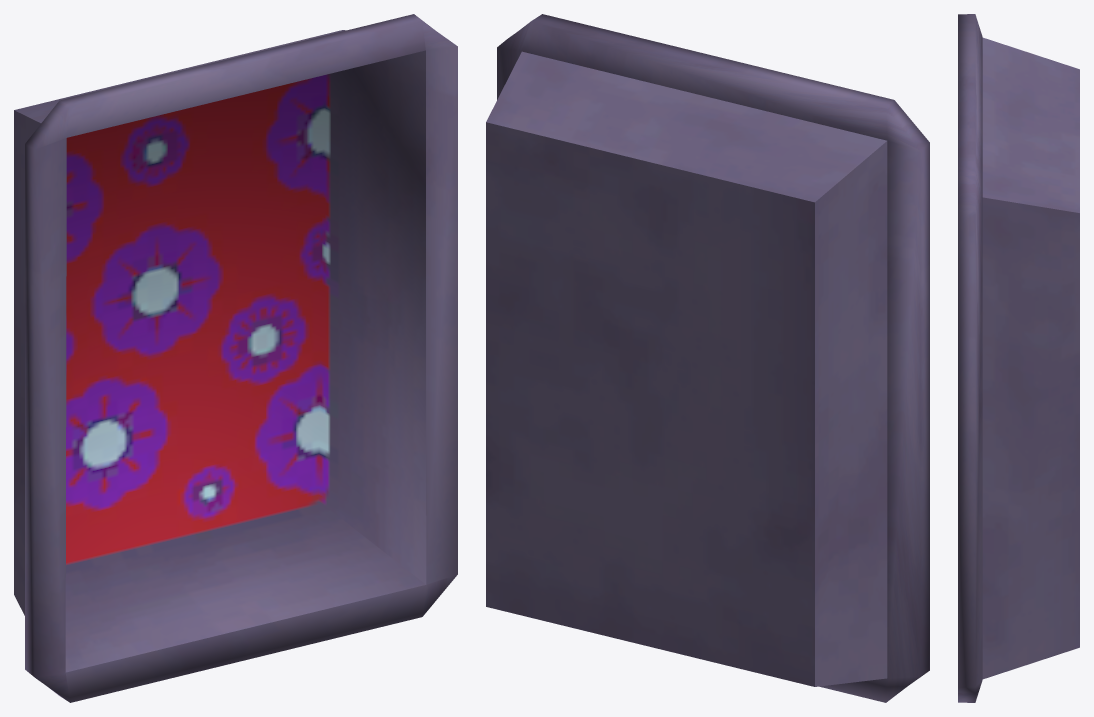
Rendered from nt_2020_storage_bin_LOD1.obj.
3 views of the same model, side by side, from view 1: azimuth 30°, elevation 25°; view 2: azimuth 150°, elevation 25°; view 3: azimuth 270°, elevation 25° (orthographic). The views are drawn at different scales.
Visible parts, largest first — view 1: mtl_nt_2020_storage_bin; view 2: mtl_nt_2020_storage_bin; view 3: mtl_nt_2020_storage_bin.
Boxes of the visible parts, <box> form: mtl_nt_2020_storage_bin: <box>14,14,457,702</box>; mtl_nt_2020_storage_bin: <box>486,14,929,702</box>; mtl_nt_2020_storage_bin: <box>958,14,1079,702</box>.
Bounding box in the file's own units: 44.83 × 60.25 × 12.45.
